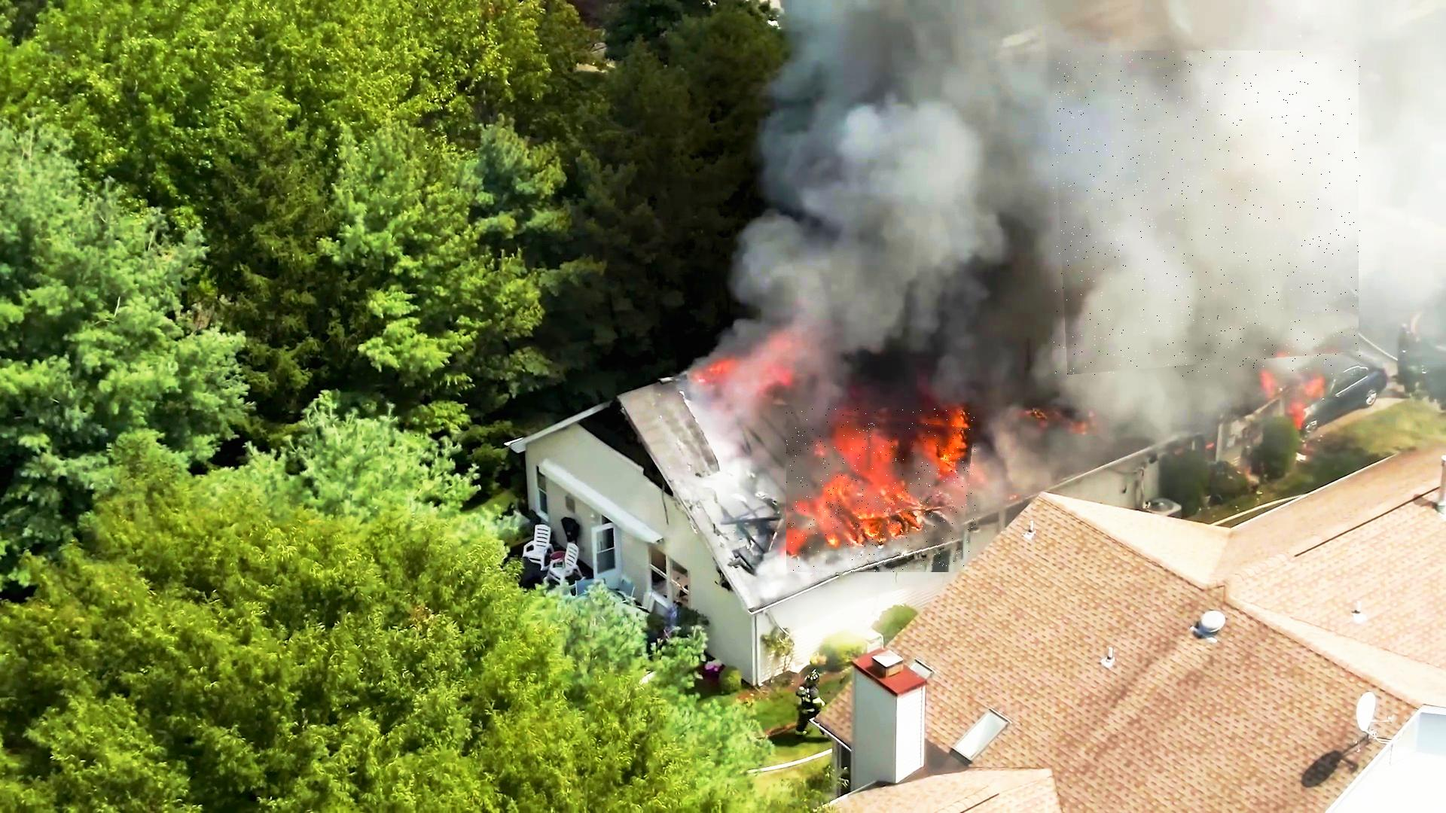smoke: (1053, 51, 1361, 377), (787, 409, 976, 572)
